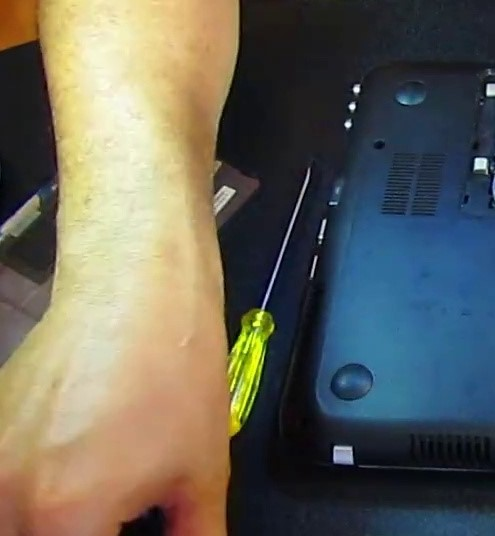screwdriver: (210, 154, 319, 443)
